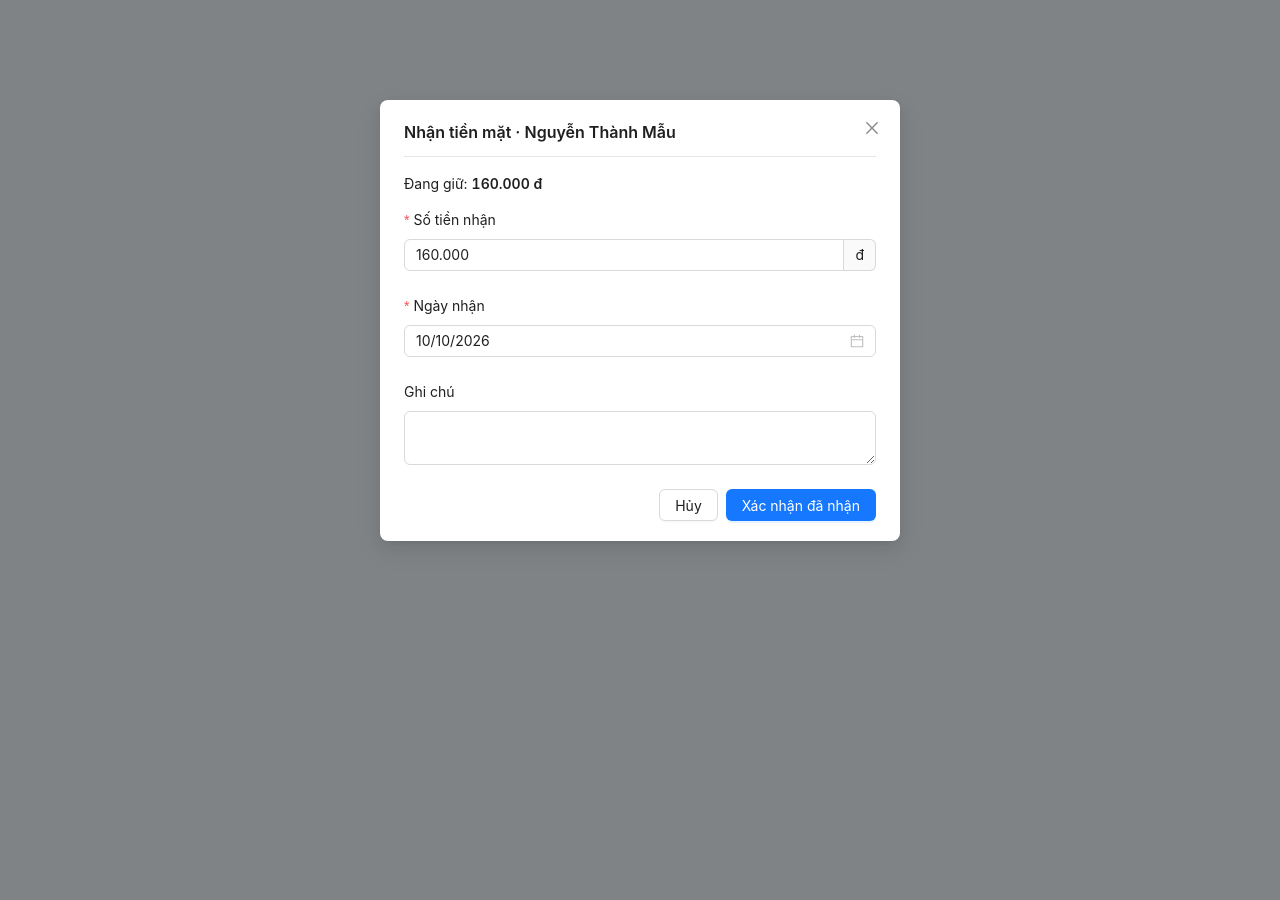
Test case: CashReceiveForm › vượt số đang giữ hoặc xóa trắng (= 0) thì báo lỗi tiếng Việt, không gửi
Replace the text in the number field labelled "Số tiền nhận" with "200000": x=624, y=255 [405, 240, 843, 270]
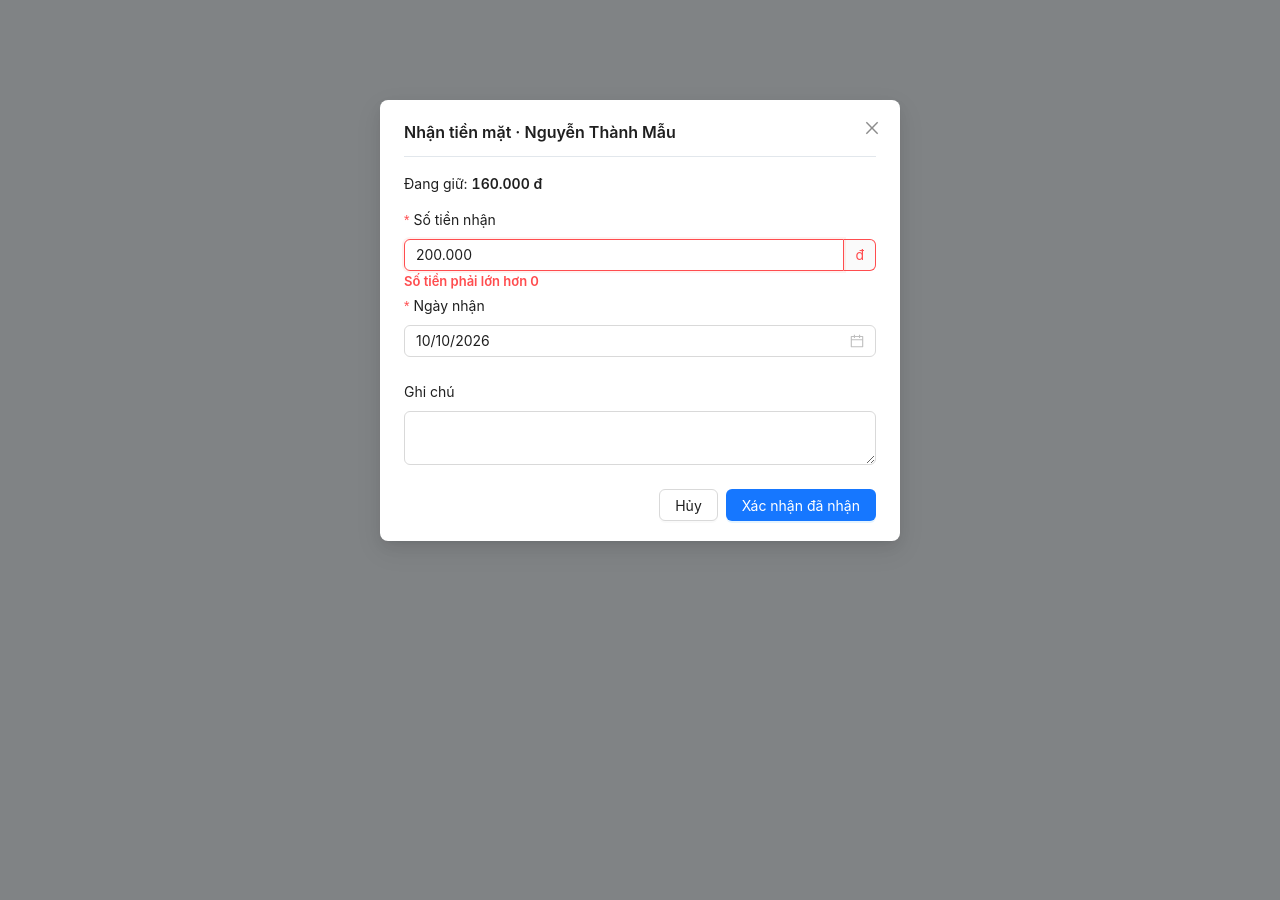
Click the button "Xác nhận đã nhận": x=801, y=505 [726, 489, 876, 521]
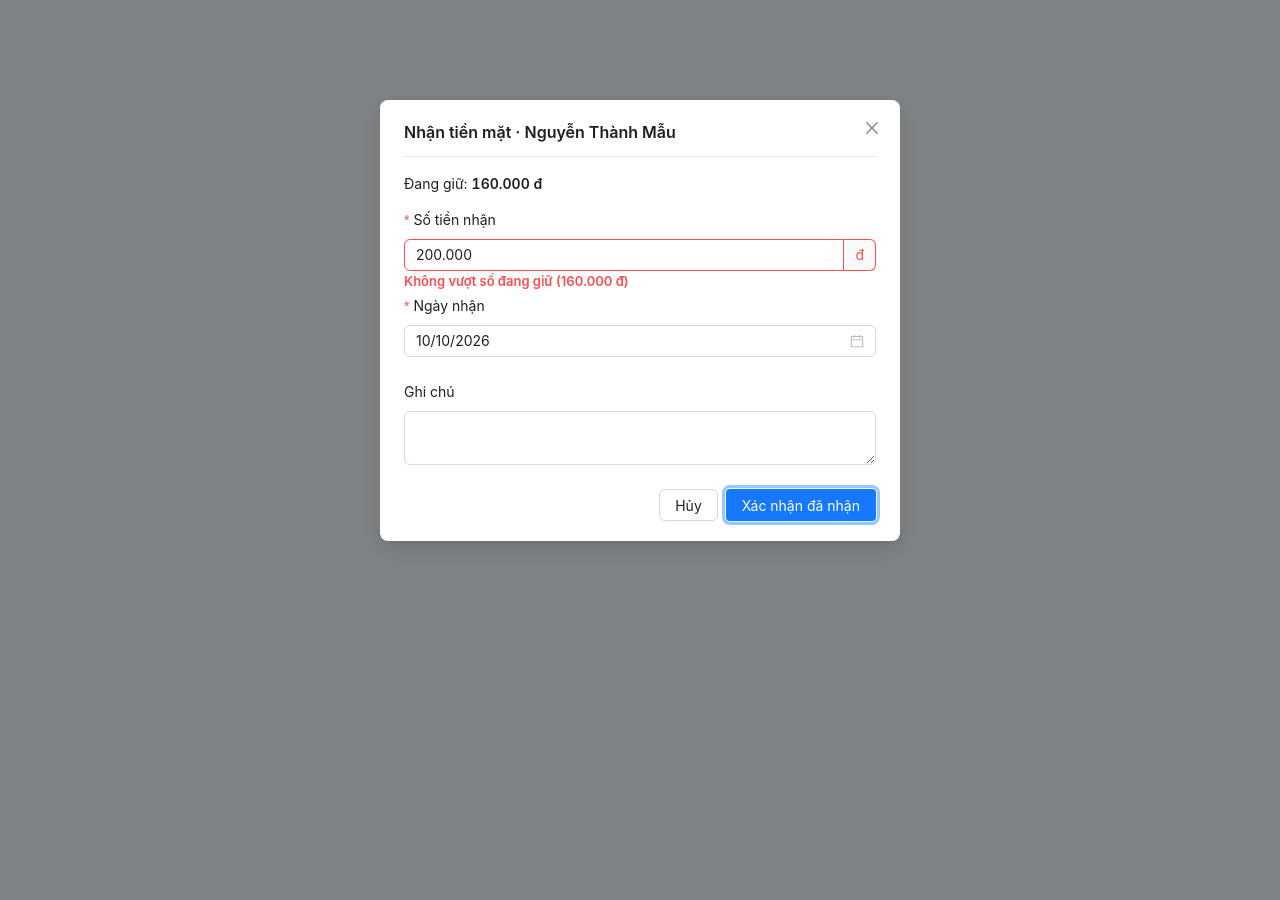
Expected: the text "Không vượt số đang giữ (160.000 đ)" is shown, [404, 273, 629, 289]
Clear the number field labelled "Số tiền nhận": x=624, y=255 [405, 240, 843, 270]
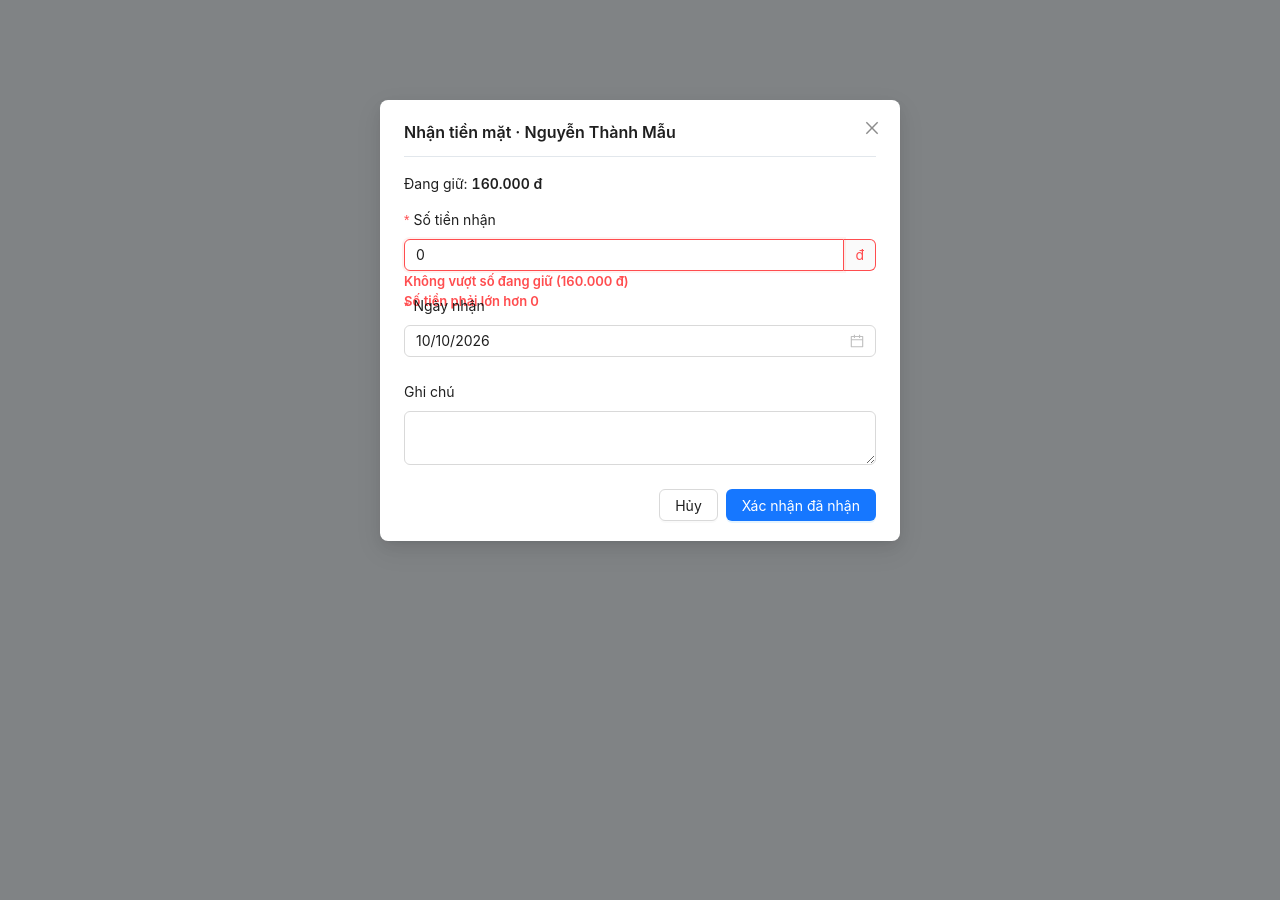
Click the button "Xác nhận đã nhận": x=801, y=505 [726, 489, 876, 521]
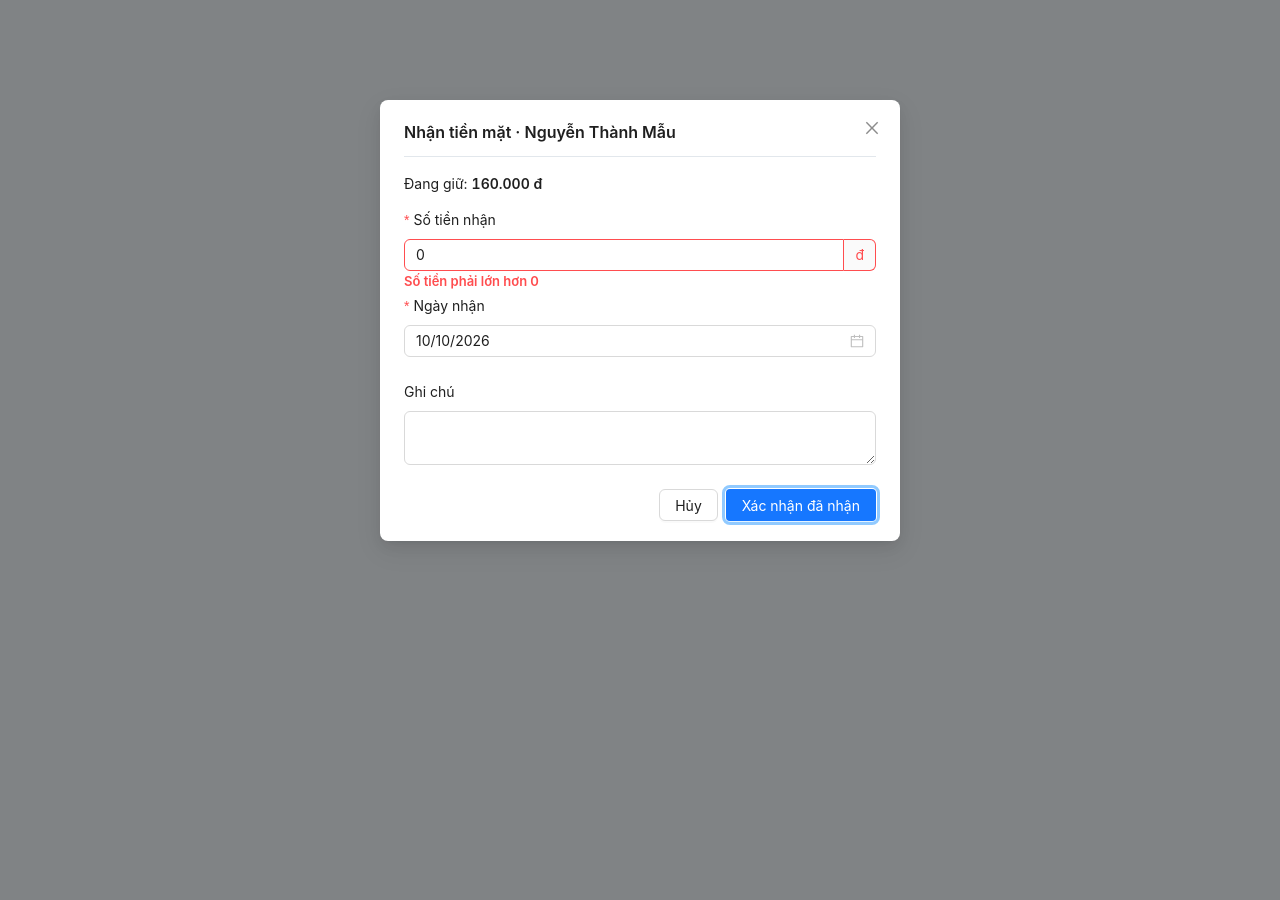
Expected: the text "Số tiền phải lớn hơn 0" is shown, [404, 273, 539, 289]
